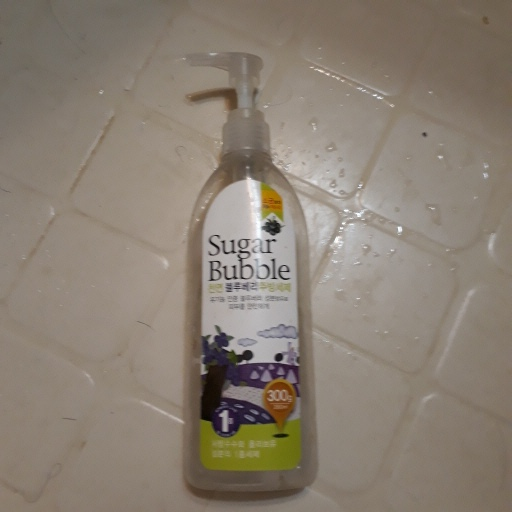Plastic_3: (177, 47, 322, 498)
